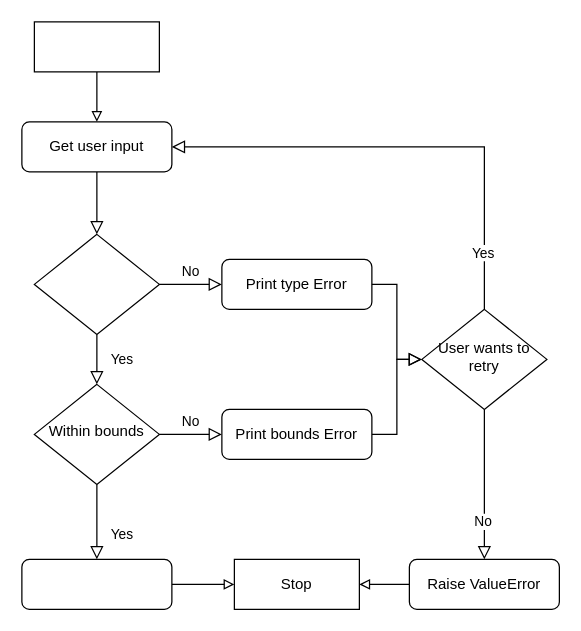
The diagram is 581 pixels wide and 631 high, and some of its shapes have lost their labels. Here are the shapes that lost their labels. From the top down, the centre of each, then its label:
(x=96, y=46): Start
(x=96, y=283): Is it dtype Constructable
(x=96, y=583): Return Value
